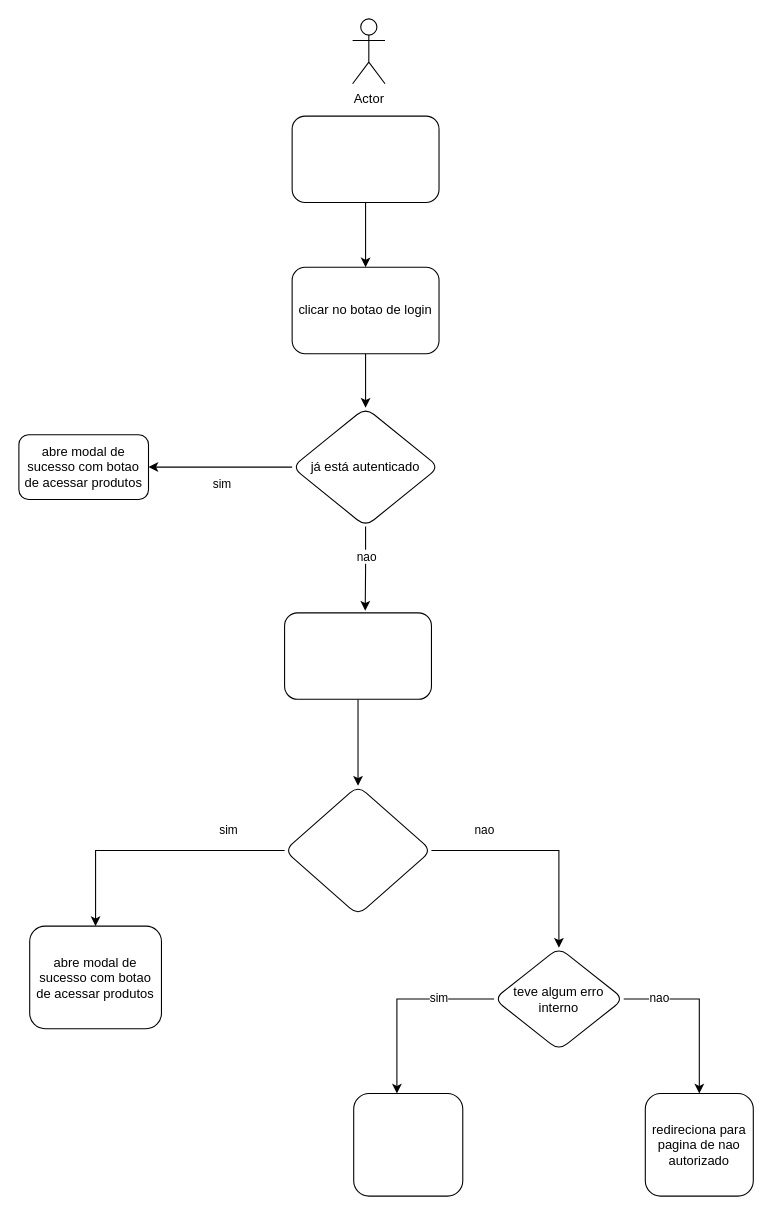
Image size: 772x1215. Some labels were removed from this diagram. Each missing label, with the centre of its shape:
abre modal de erro: the point at 408,1144
abrir modal com formulário: the point at 357,655
necessidade de realizar login: the point at 365,158
possui autorização para login?: the point at 357,850
